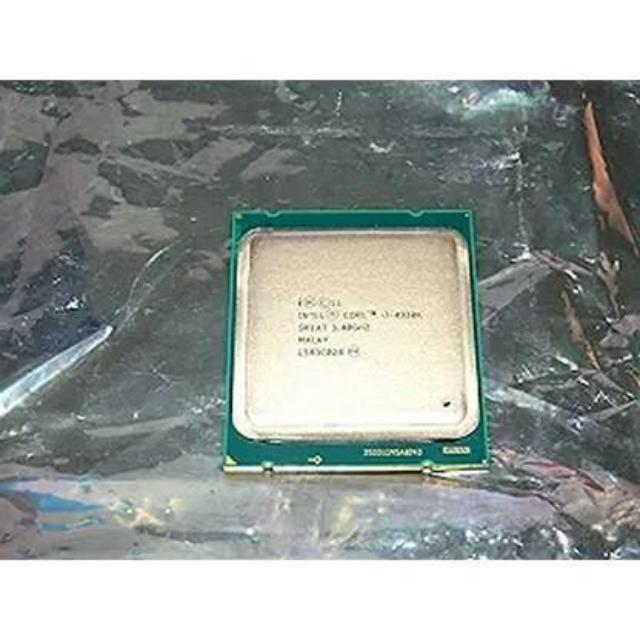CPU: (231, 208, 483, 468)
